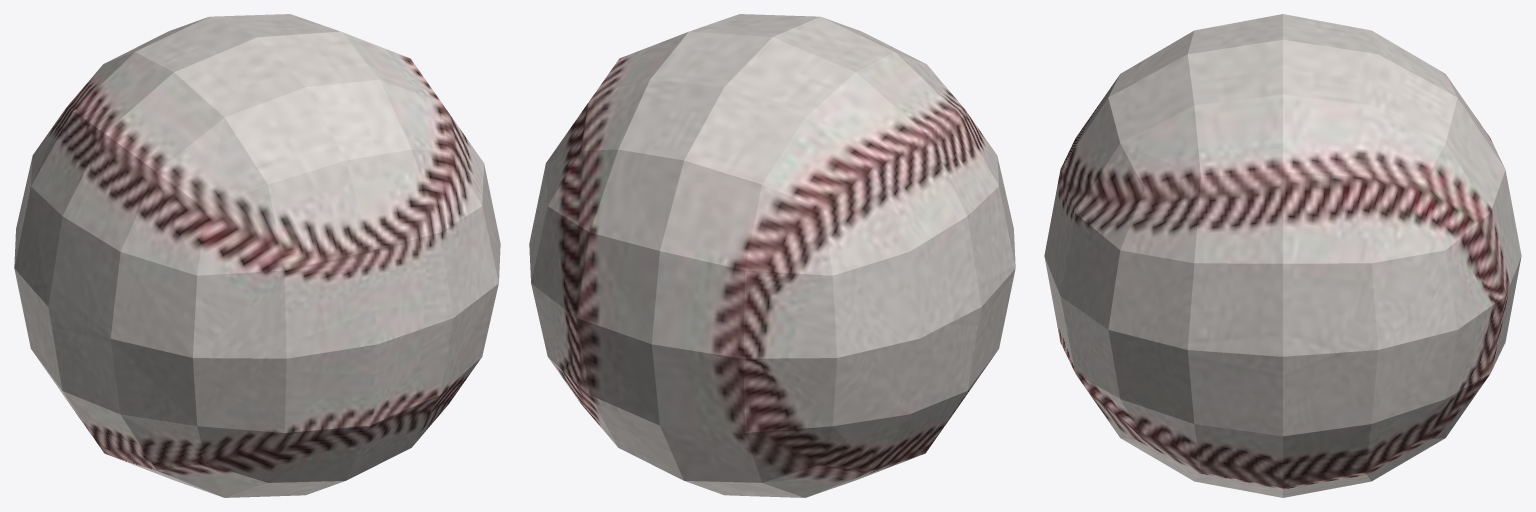
Rendered from baseball.glb.
The picture shows the model from 3 angles, left to right: view 1: azimuth 30°, elevation 25°; view 2: azimuth 150°, elevation 25°; view 3: azimuth 270°, elevation 25°; orthographic projection.
Visible parts, largest first — view 1: Node; view 2: Node; view 3: Node.
Part boxes in pixels (x1,y1,x2,y2): Node: (14, 14, 500, 497); Node: (529, 14, 1015, 497); Node: (1044, 14, 1521, 497).
Bounding box in the file's own units: 0.8785 × 0.8785 × 0.8785.
Materials: 1 (1 with a texture image).
